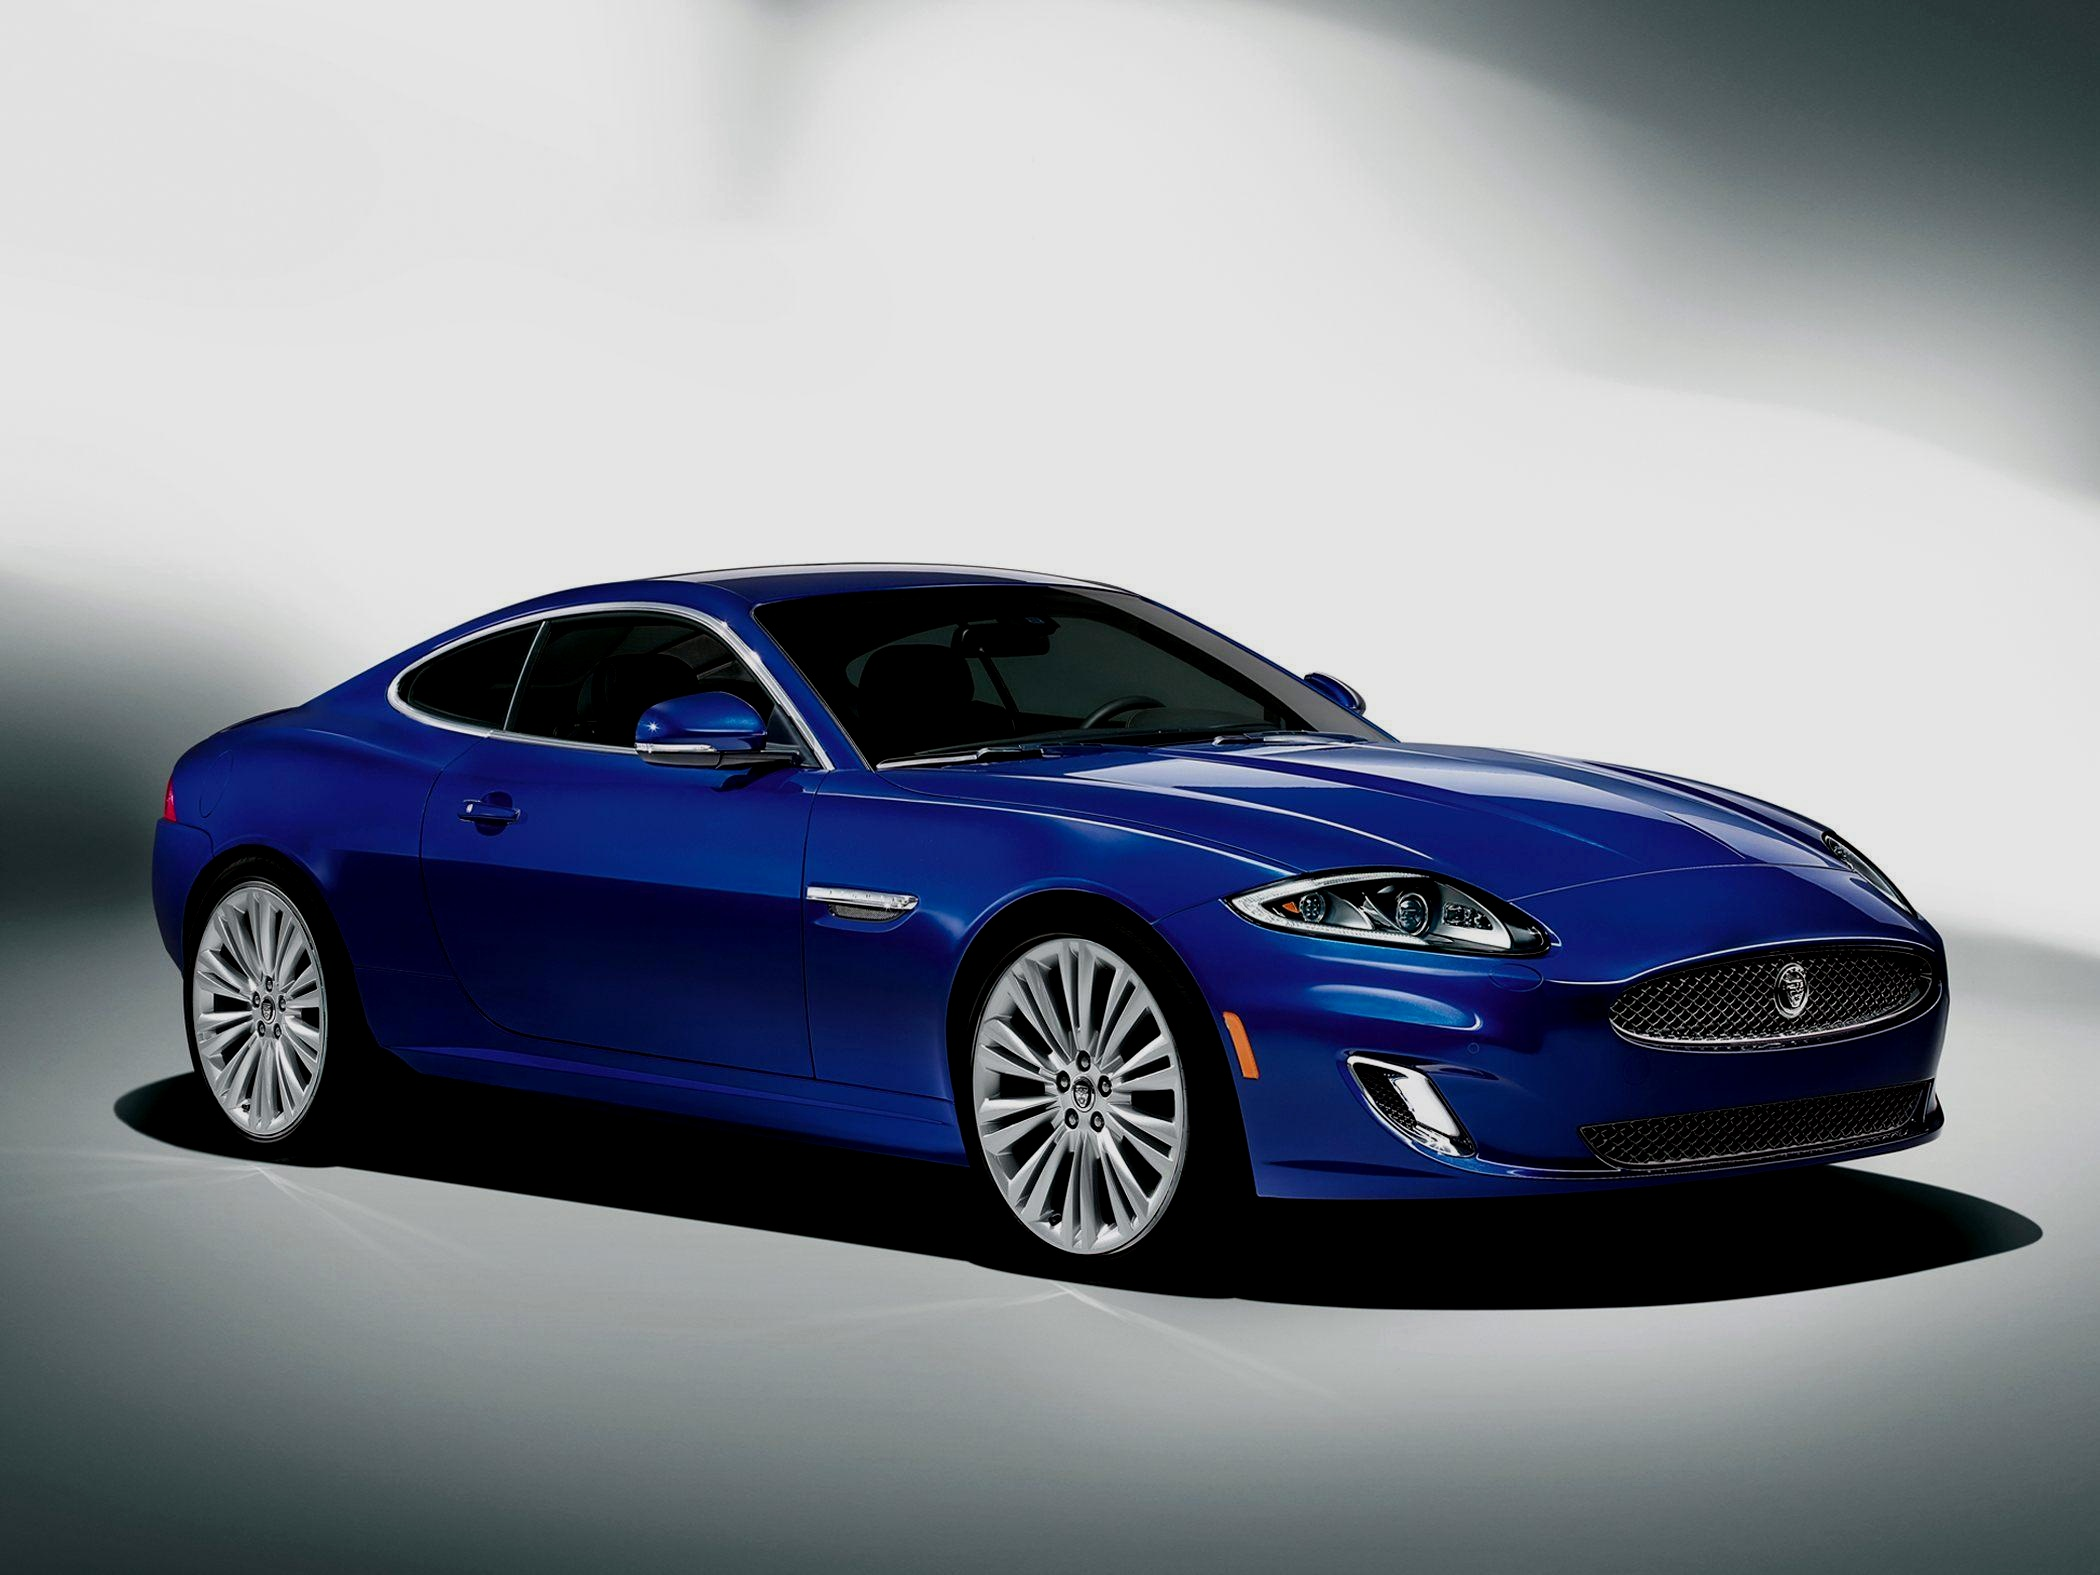car: (93, 500, 2009, 1362)
